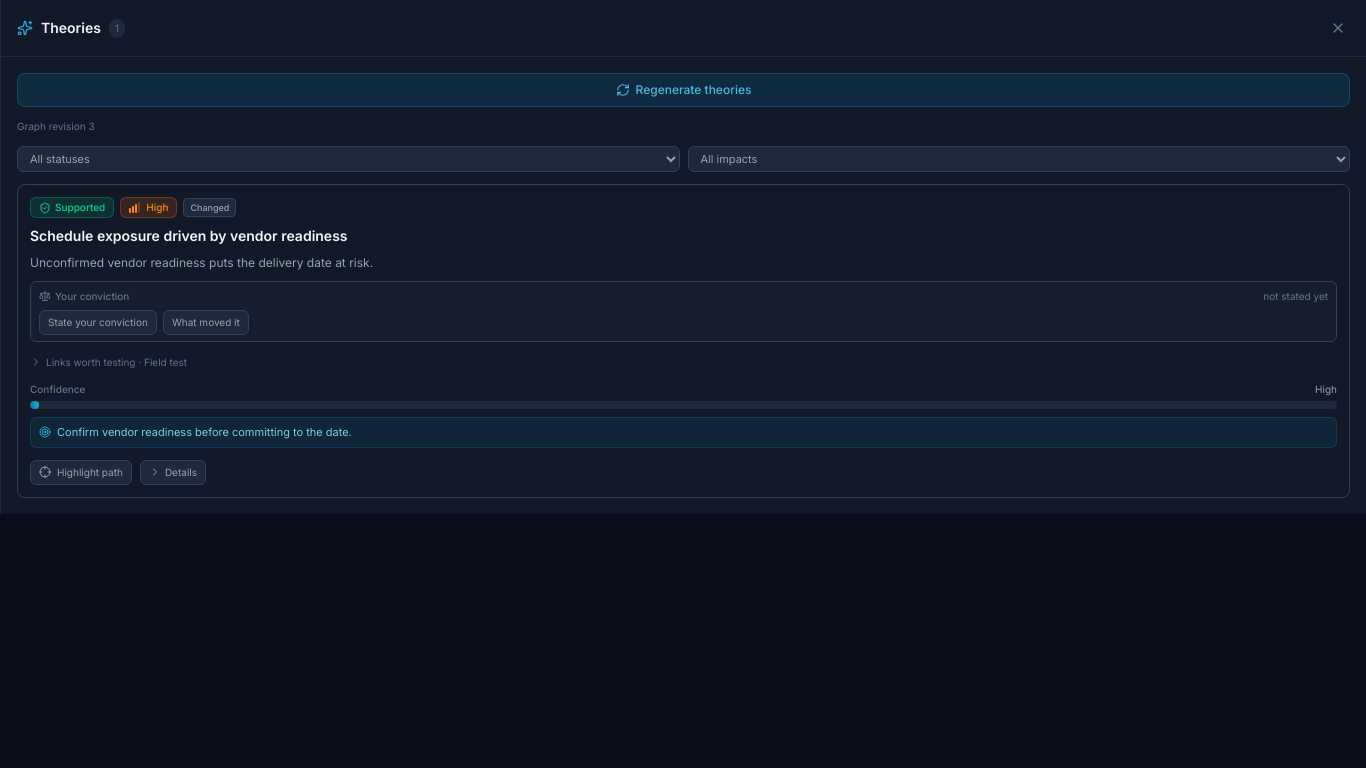
Test case: TheoryPanel content › explains what changed between versions
The width and height of the screenshot is (1366, 768).
What coordinates should you click on to do the following:
click the button "Details"
I would click on:
 (173, 472)
Its box is [140,460,206,485].
(page scrolled)
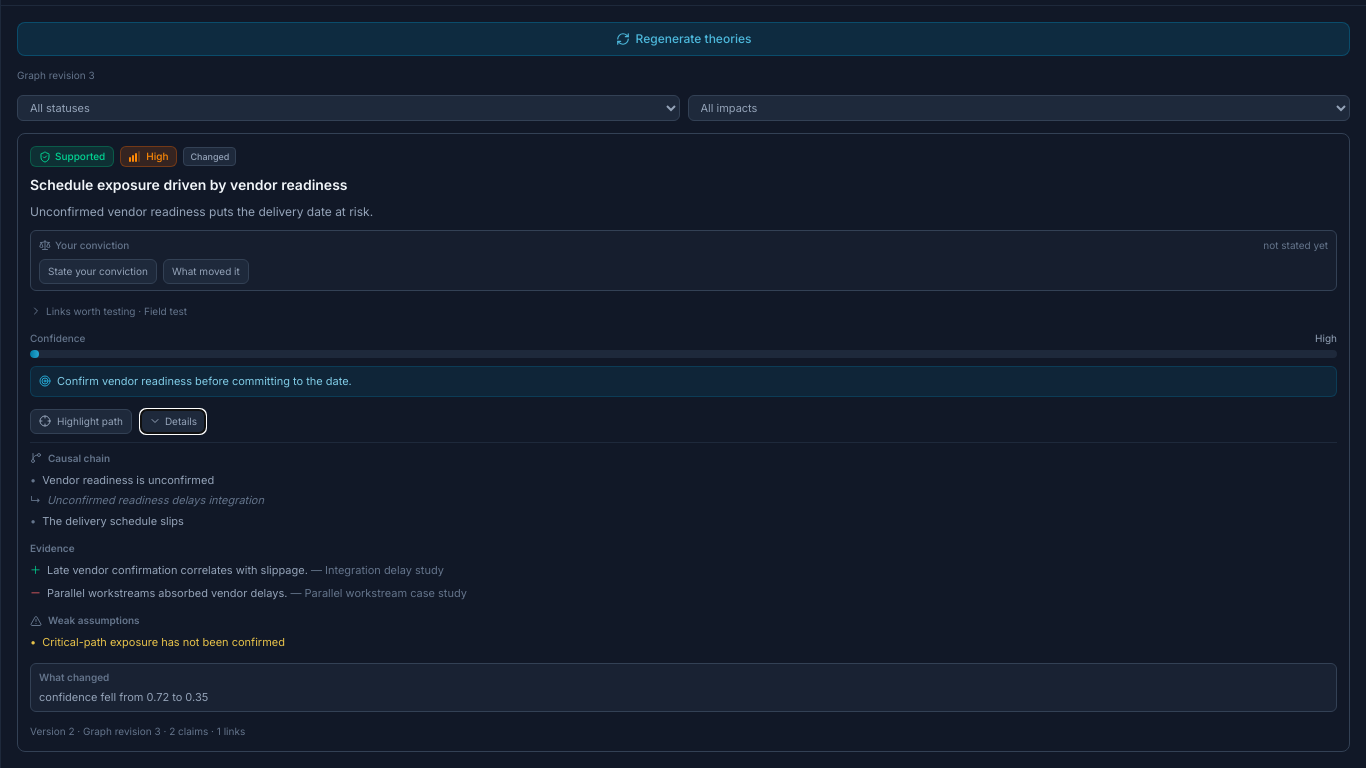
Result: the text "confidence fell from 0.72 to 0.35" is shown at [39,690,208,704]
Result: the text "Version 2 · Graph revision 3 · 2 claims · 1 links" is shown at [30,725,245,737]
